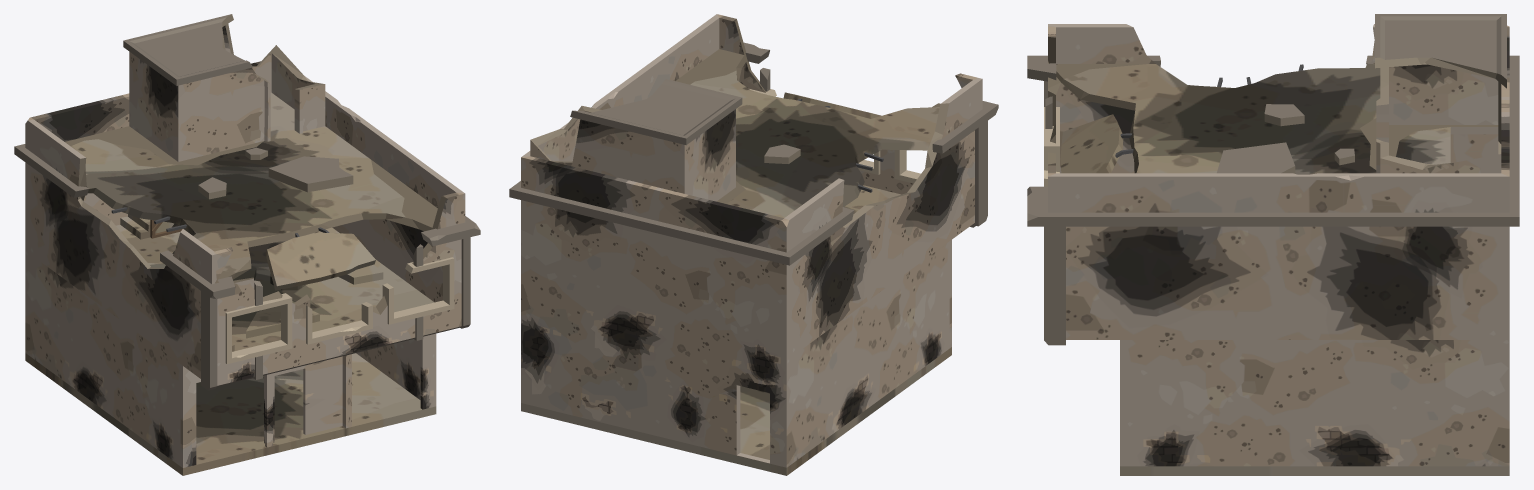
File: SM_Bld_Shop_11_Destroyed.glb
The picture shows the model from 3 angles, left to right: view 1: azimuth 30°, elevation 25°; view 2: azimuth 150°, elevation 25°; view 3: azimuth 270°, elevation 25°; orthographic projection. The views are drawn at different scales.
Parts seen in each view (by area): view 1: SM_Bld_Shop_11_Destroyed; view 2: SM_Bld_Shop_11_Destroyed; view 3: SM_Bld_Shop_11_Destroyed.
Boxes of the visible parts, x1,y1,x2,y2 form: SM_Bld_Shop_11_Destroyed: [14, 14, 480, 475]; SM_Bld_Shop_11_Destroyed: [509, 14, 998, 475]; SM_Bld_Shop_11_Destroyed: [1027, 14, 1519, 475].
Size of the model in its own units: 9.45 by 10.05 by 12.2.
1 material, 1 textured.
